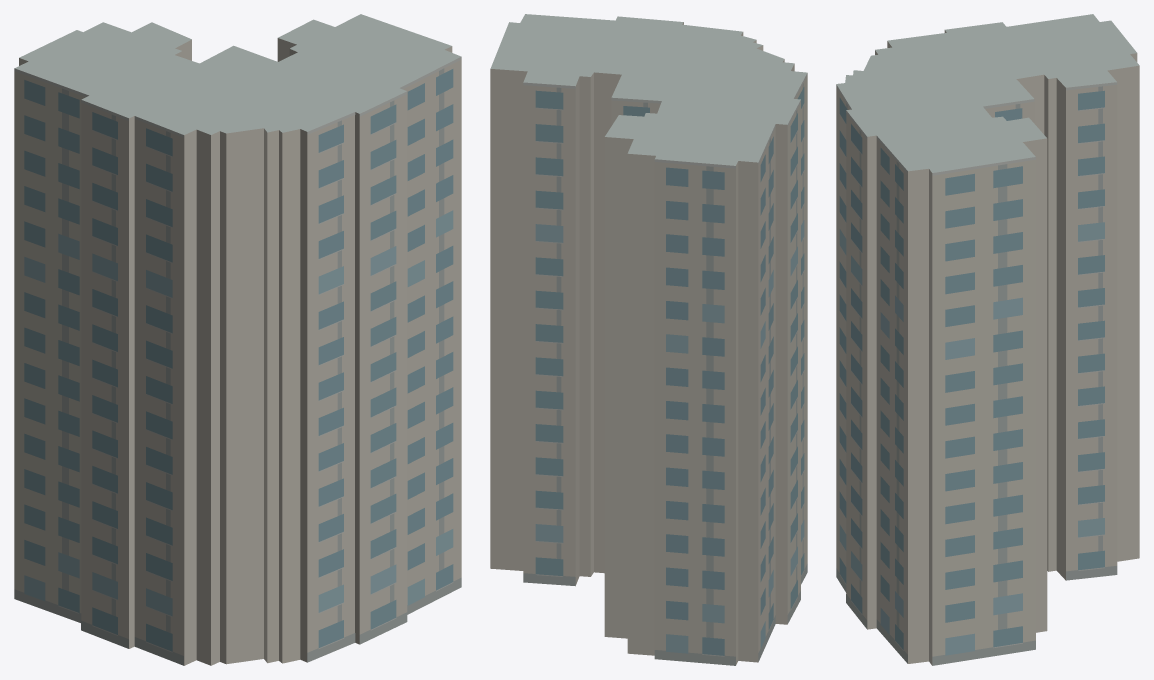
File: residential-6d2a24df-2c1c-4957-83e5-457760a3e4ff.glb
The picture shows the model from 3 angles, left to right: view 1: azimuth 30°, elevation 25°; view 2: azimuth 150°, elevation 25°; view 3: azimuth 270°, elevation 25°; orthographic projection. The views are drawn at different scales.
Parts seen in each view (by area): view 1: residential-6d2a24df-2c1c-4957-83e5-457760a3e4ff.tmp; view 2: residential-6d2a24df-2c1c-4957-83e5-457760a3e4ff.tmp; view 3: residential-6d2a24df-2c1c-4957-83e5-457760a3e4ff.tmp.
Boxes of the visible parts, left/top/right/bottom form: residential-6d2a24df-2c1c-4957-83e5-457760a3e4ff.tmp: left=14, top=14, right=461, bottom=665; residential-6d2a24df-2c1c-4957-83e5-457760a3e4ff.tmp: left=490, top=14, right=807, bottom=665; residential-6d2a24df-2c1c-4957-83e5-457760a3e4ff.tmp: left=836, top=14, right=1139, bottom=665.
Size of the model in its own units: 31.18 by 45 by 25.13.
